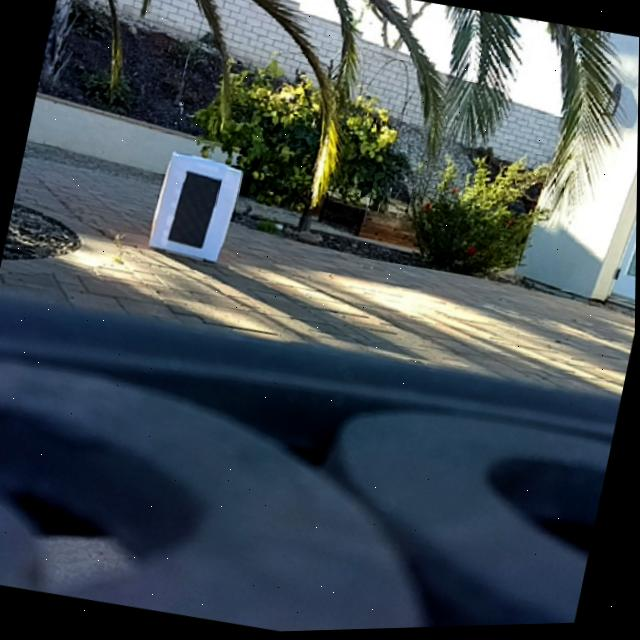led: (170, 171, 222, 251)
